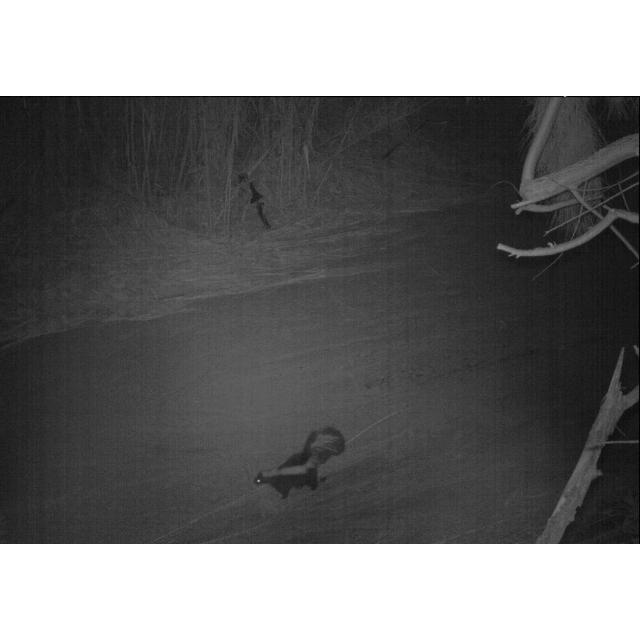animals: (249, 420, 347, 502)
